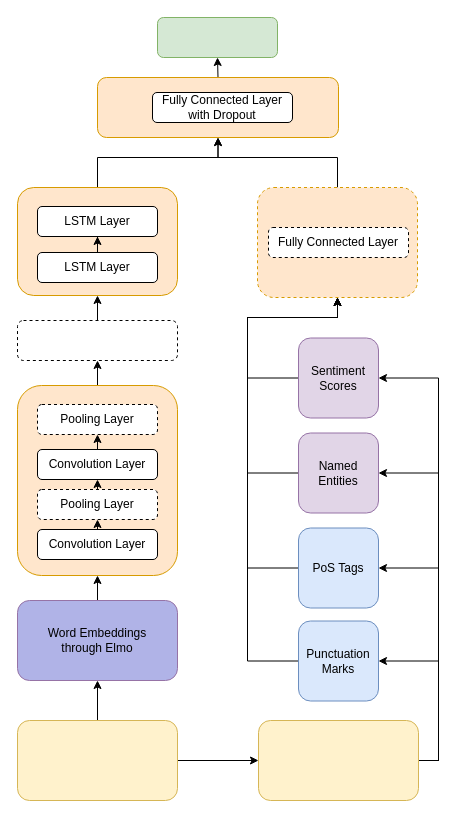
This 464x818 diagram has some shape labels left out. The shapes that lost their labels are listed below. From the top down, each one's centre as x and y in pixels, then its label:
pixel 217 37: Softmax
pixel 97 340: Dropout Layer
pixel 97 760: Input Sentences
pixel 338 760: Features Extraction Using Existing Libraries (spaCy, TextBlob)
